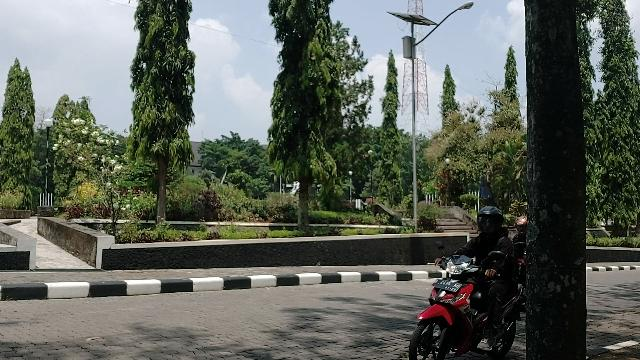helm: (479, 208, 505, 234), (516, 218, 528, 235)
motor: (411, 257, 523, 360)
